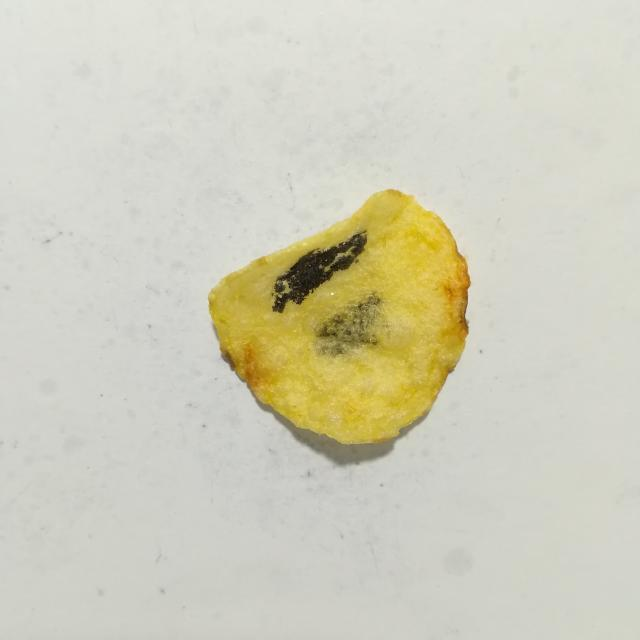chip: (209, 190, 470, 443)
damaged: (272, 231, 367, 312)
semi-damaged: (314, 294, 381, 356)
